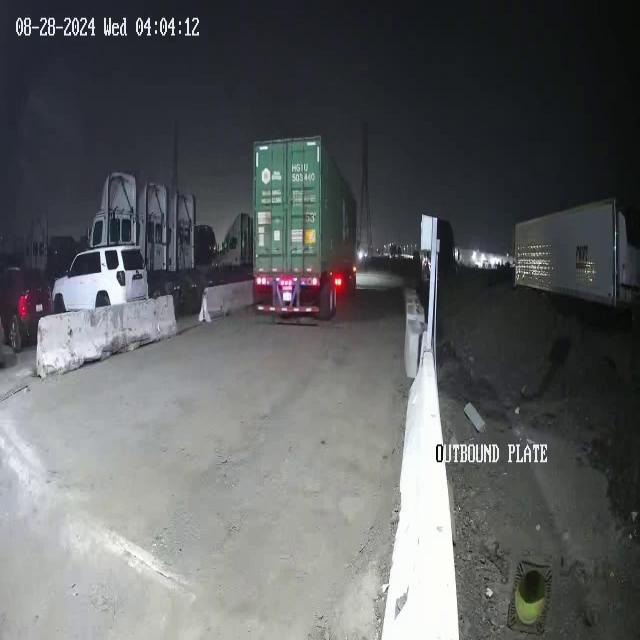TRUCK_IN: (252, 134, 357, 320)
